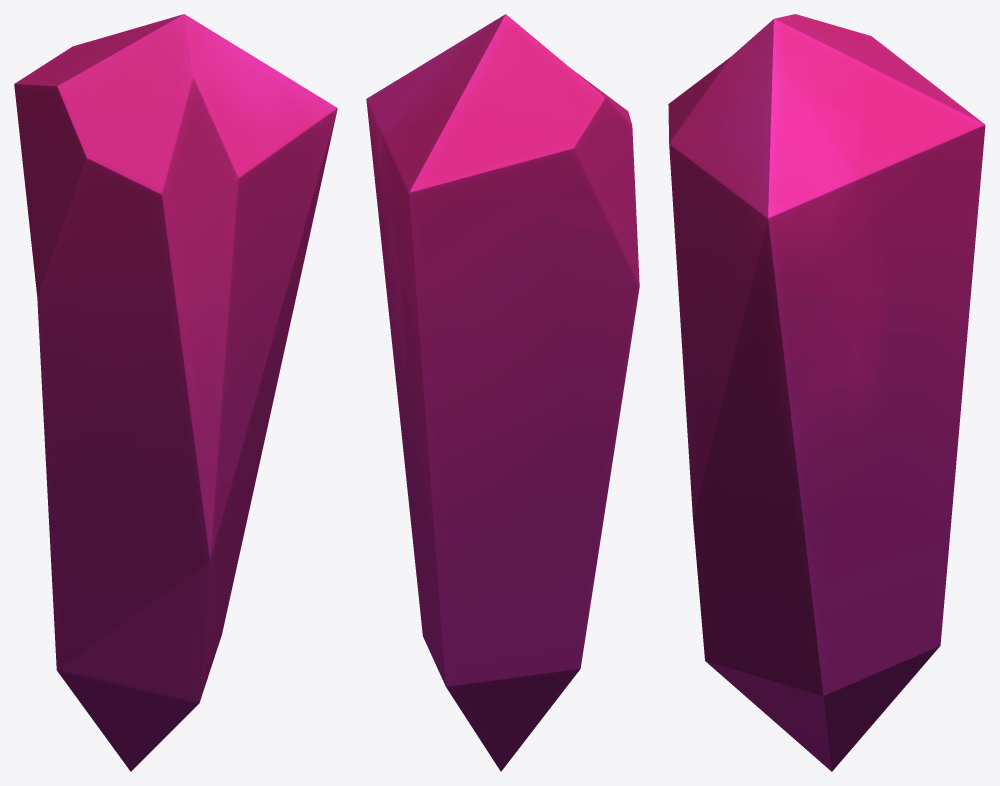
File: Crystal3.fbx
3 views of the same model, side by side, from view 1: azimuth 30°, elevation 25°; view 2: azimuth 150°, elevation 25°; view 3: azimuth 270°, elevation 25° (orthographic). The views are drawn at different scales.
Visible parts, largest first — view 1: Crystal3; view 2: Crystal3; view 3: Crystal3.
Part boxes in pixels (box(x1,y1,x2,y2)): Crystal3: box(14, 14, 337, 771); Crystal3: box(366, 14, 639, 771); Crystal3: box(668, 14, 985, 771).
Bounding box in the file's own units: 107 × 268 × 101.
Materials: 1 (1 with a texture image).
